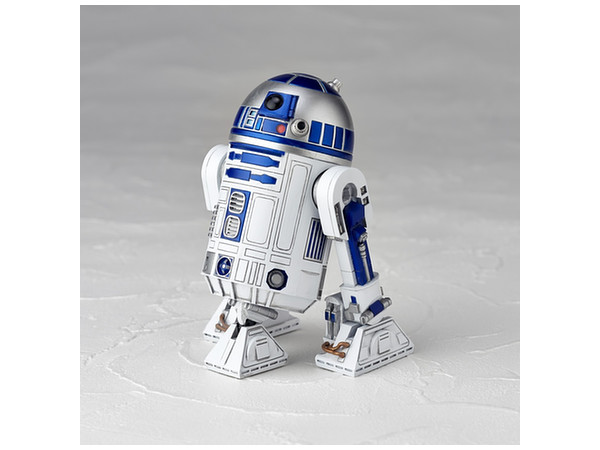r2d2: (200, 73, 415, 378)
